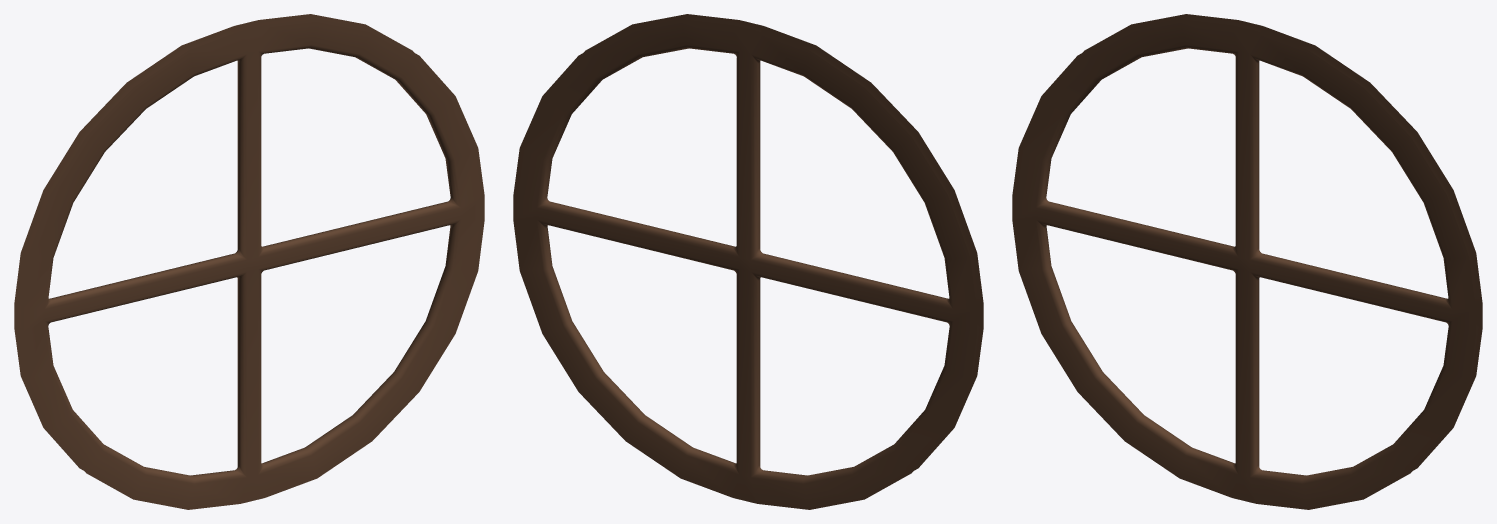
The model's file is window frame.fbx.
3 views of the same model, side by side, from view 1: azimuth 30°, elevation 25°; view 2: azimuth 150°, elevation 25°; view 3: azimuth 330°, elevation 25° (orthographic).
Visible parts, largest first — view 1: WINDOW TRIM.002; view 2: WINDOW TRIM.002; view 3: WINDOW TRIM.002.
Part boxes in pixels (bbox=[...]): WINDOW TRIM.002: bbox=[14, 14, 484, 509]; WINDOW TRIM.002: bbox=[513, 14, 983, 509]; WINDOW TRIM.002: bbox=[1012, 14, 1482, 509].
Bounding box in the file's own units: 85.68 × 83.56 × 2.15.
